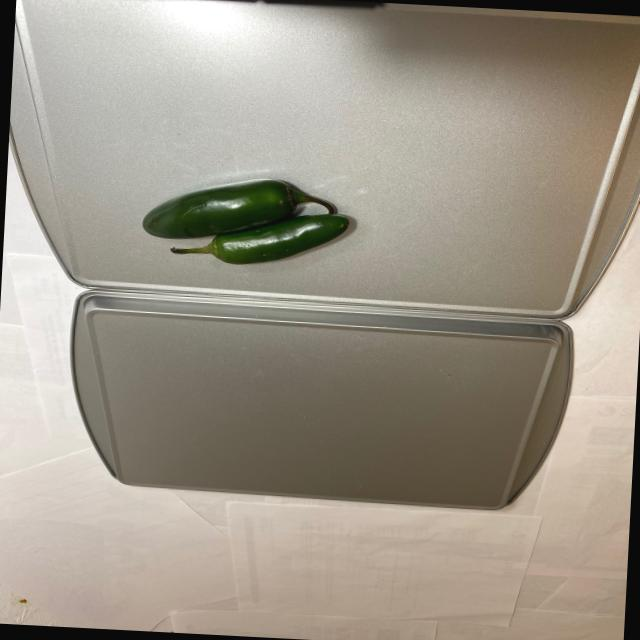chilli: (128, 164, 364, 268)
